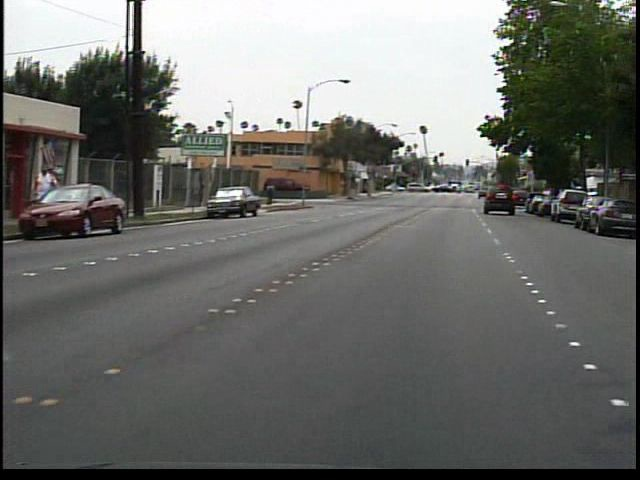person: (37, 160, 68, 232), (269, 179, 284, 210)
